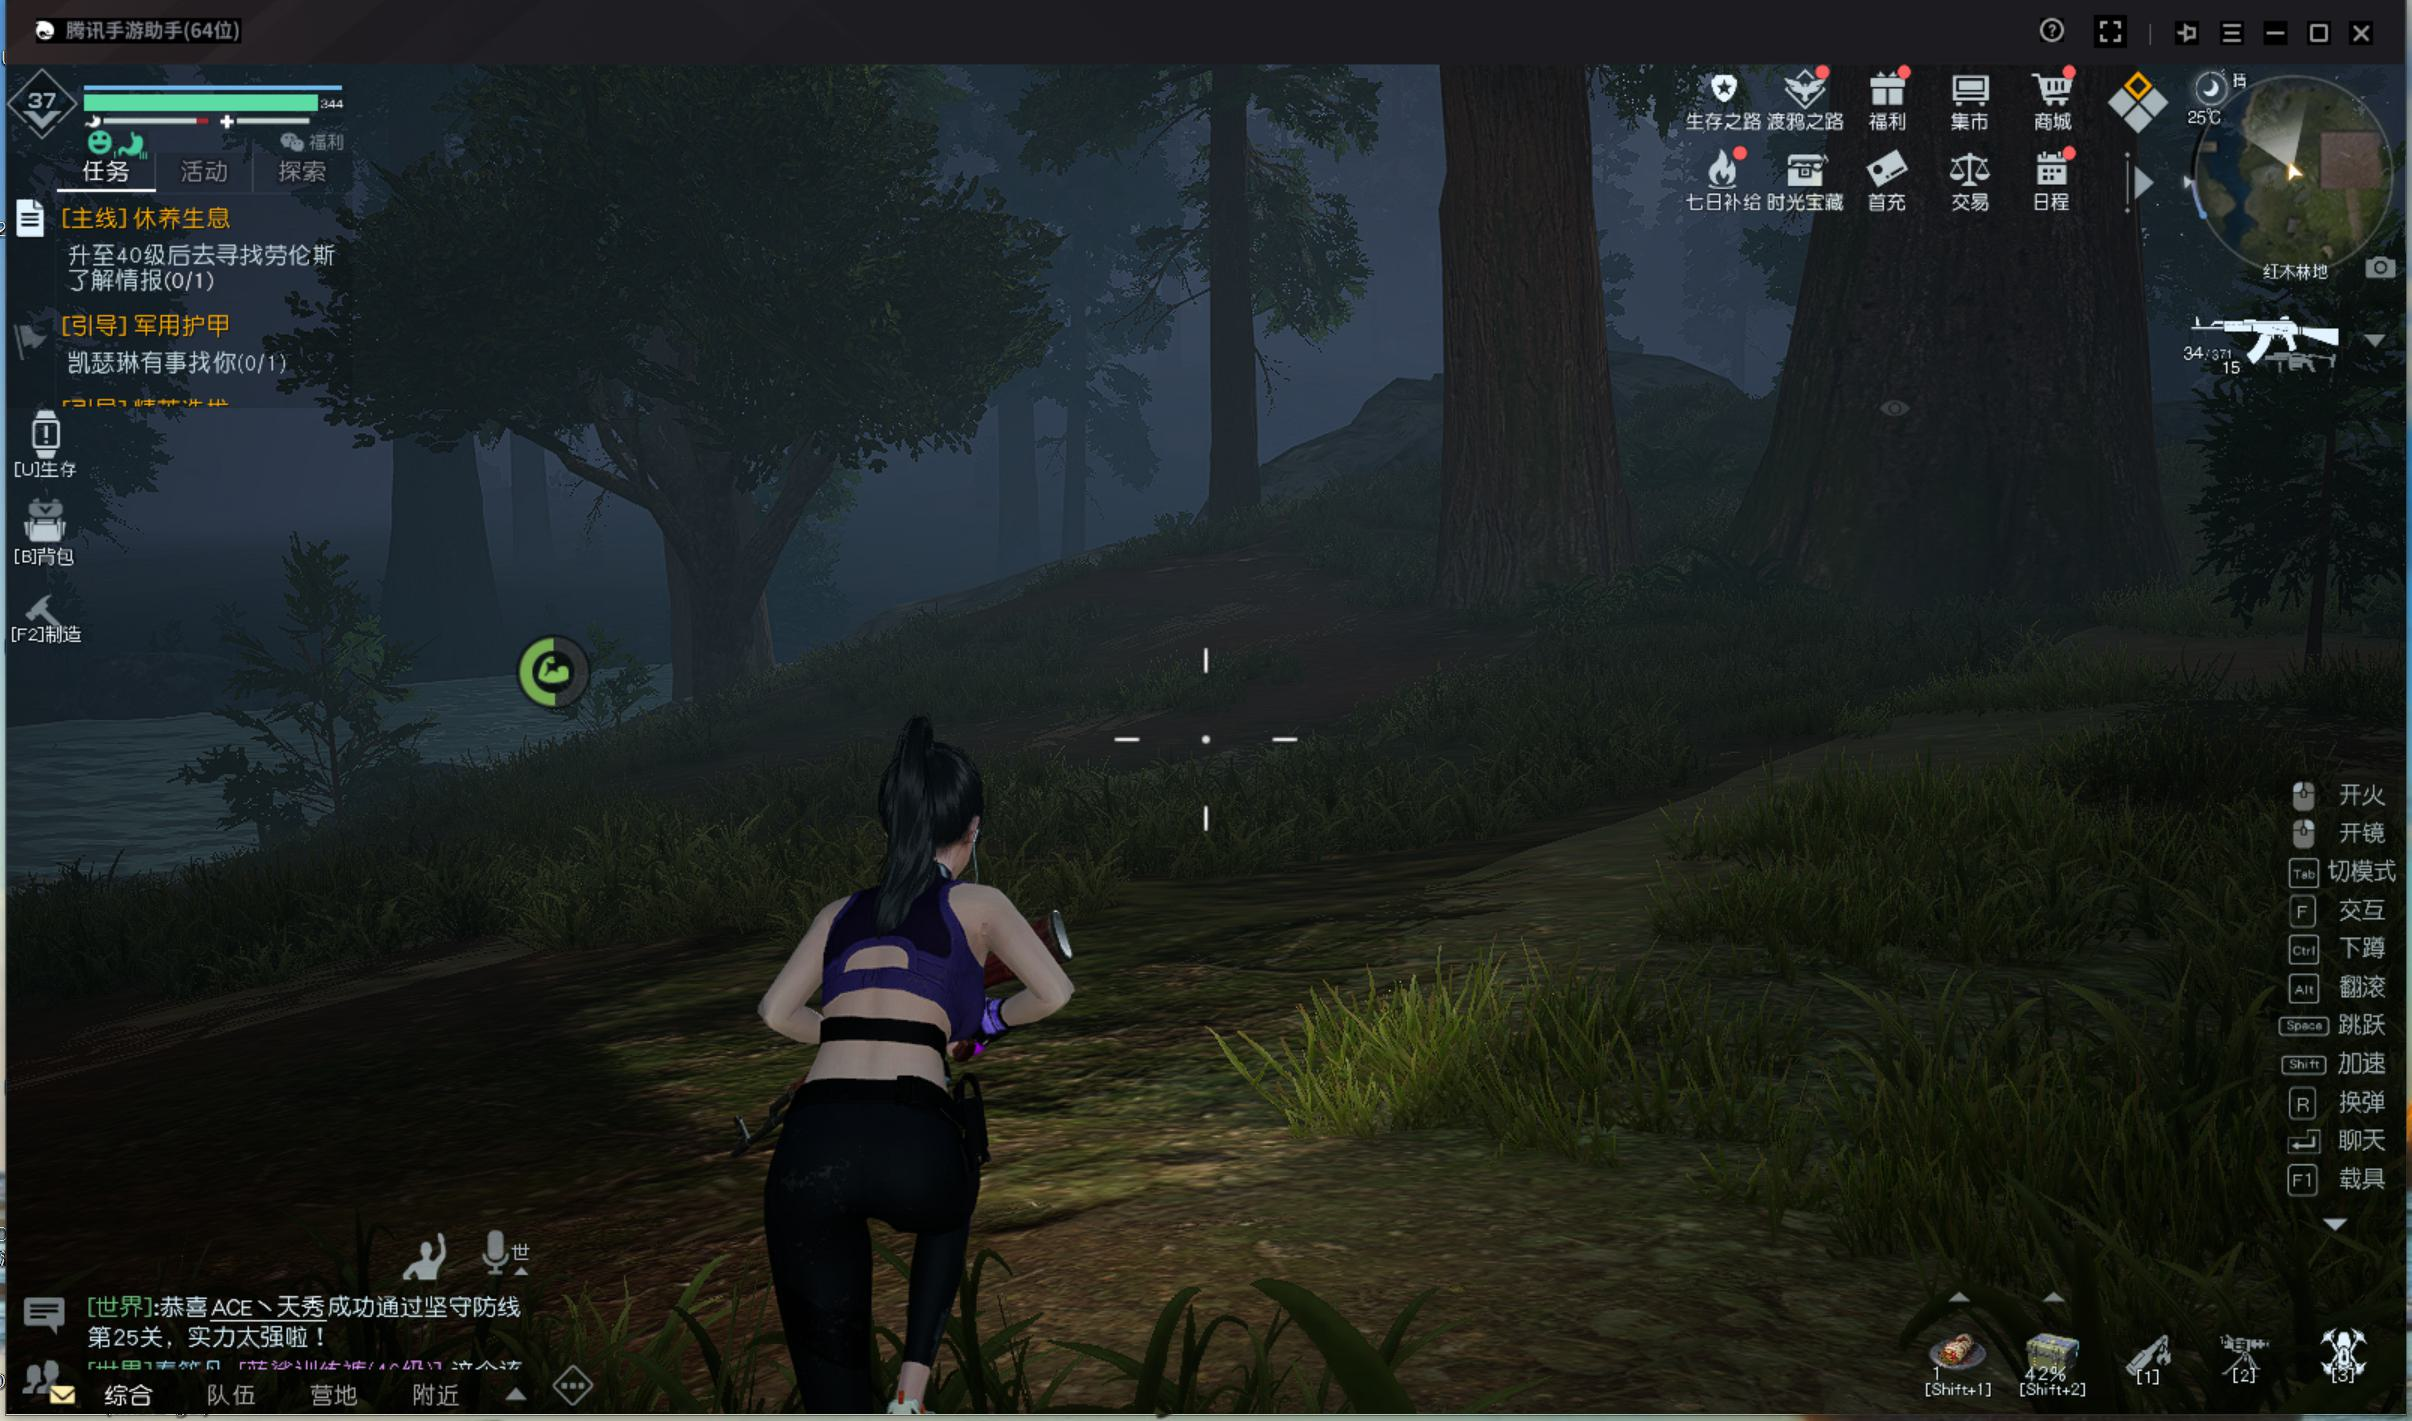tree: (1421, 96, 1647, 634), (1198, 144, 1285, 560), (374, 433, 496, 643), (1055, 372, 1099, 590), (504, 436, 562, 599), (995, 408, 1044, 582)
